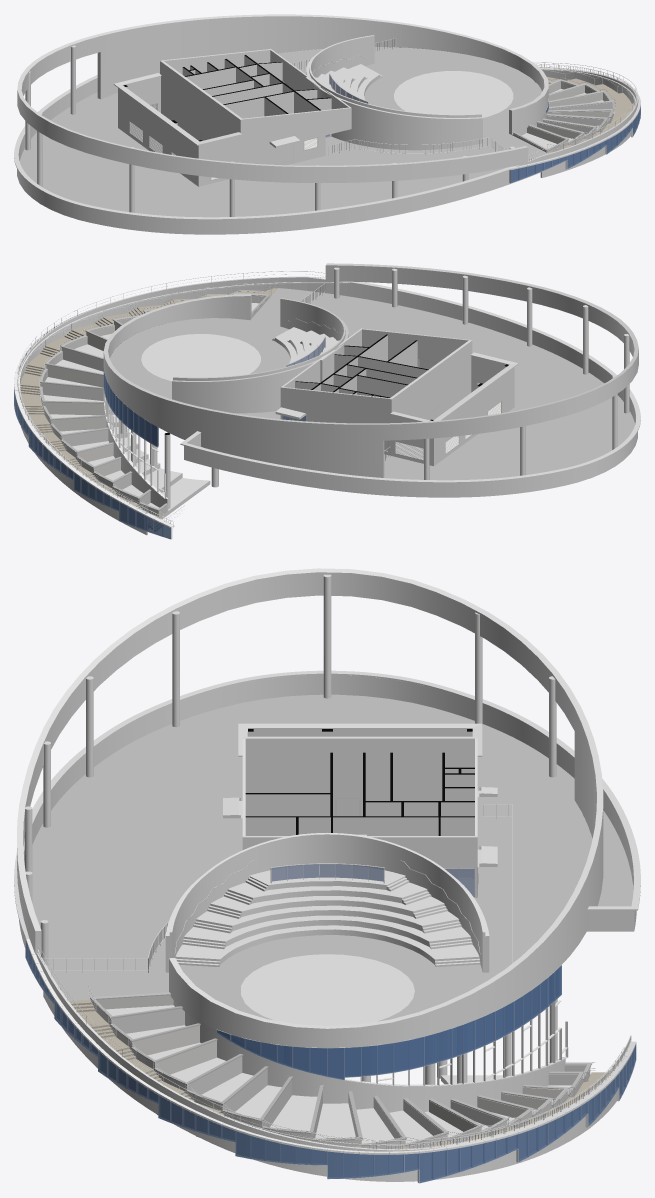
3 views of the same model, one above another, from view 1: azimuth 30°, elevation 25°; view 2: azimuth 150°, elevation 25°; view 3: azimuth 270°, elevation 25° (orthographic). The views are drawn at different scales.
Parts seen in each view (by area): view 1: A4-RF_외부 벽체, A4-RF_바닥, A4-RF_내벽, A4-RF_야외 스탠드, A4-RF_나선 계단, A4-RF_계단 벽체, A4-RF_기둥, A4-5F_frame_02, Object002, A4-RF_난간, A4-RF_환기구, A4-RF_문 (+2 smaller); view 2: A4-RF_외부 벽체, A4-RF_바닥, A4-RF_내벽, A4-RF_나선 계단, A4-RF_야외 스탠드, A4-RF_계단 벽체, Object002, A4-RF_기둥, A4-5F_frame_02, Object001, A4-RF_계단 난간, A4-RF_기둥2 (+2 smaller); view 3: A4-RF_바닥, A4-RF_외부 벽체, A4-RF_나선 계단, A4-RF_야외 스탠드, A4-RF_내벽, Object002, A4-RF_계단 벽체, A4-5F_frame_02, A4-RF_기둥, Object001, A4-RF_벽체 난간, A4-RF_기둥2 (+2 smaller).
Part boxes in pixels (box(x1,y1,x2,y2)): A4-RF_외부 벽체: box(14, 14, 548, 234); A4-RF_바닥: box(19, 47, 547, 217); A4-RF_내벽: box(113, 49, 351, 186); A4-RF_야외 스탠드: box(306, 35, 482, 150); A4-RF_나선 계단: box(512, 77, 634, 153); A4-RF_계단 벽체: box(540, 68, 638, 177); A4-RF_기둥: box(25, 45, 514, 216); A4-5F_frame_02: box(509, 66, 640, 183); Object002: box(510, 102, 640, 182); A4-RF_난간: box(151, 38, 506, 155); A4-RF_환기구: box(129, 103, 318, 180); A4-RF_문: box(200, 132, 293, 164); A4-RF_외부 벽체: box(103, 263, 640, 497); A4-RF_바닥: box(109, 288, 634, 480); A4-RF_내벽: box(280, 328, 518, 466); A4-RF_나선 계단: box(20, 288, 277, 531); A4-RF_야외 스탠드: box(172, 298, 348, 413); A4-RF_계단 벽체: box(16, 276, 307, 535); Object002: box(14, 368, 170, 539); A4-RF_기둥: box(334, 267, 629, 479); A4-5F_frame_02: box(14, 281, 349, 539); Object001: box(17, 277, 325, 527); A4-RF_계단 난간: box(20, 279, 278, 520); A4-RF_기둥2: box(120, 421, 218, 508); A4-RF_바닥: box(32, 694, 633, 1025); A4-RF_외부 벽체: box(14, 568, 640, 1048); A4-RF_나선 계단: box(69, 992, 608, 1148); A4-RF_야외 스탠드: box(165, 833, 489, 972); A4-RF_내벽: box(238, 723, 482, 897); Object002: box(25, 940, 636, 1182); A4-RF_계단 벽체: box(43, 964, 625, 1181); A4-5F_frame_02: box(25, 938, 636, 1183); A4-RF_기둥: box(24, 574, 556, 964); Object001: box(37, 950, 631, 1149); A4-RF_벽체 난간: box(38, 944, 624, 1149); A4-RF_기둥2: box(362, 999, 557, 1084).
Bounding box in the file's own units: 72.59 × 20.61 × 45.89.
